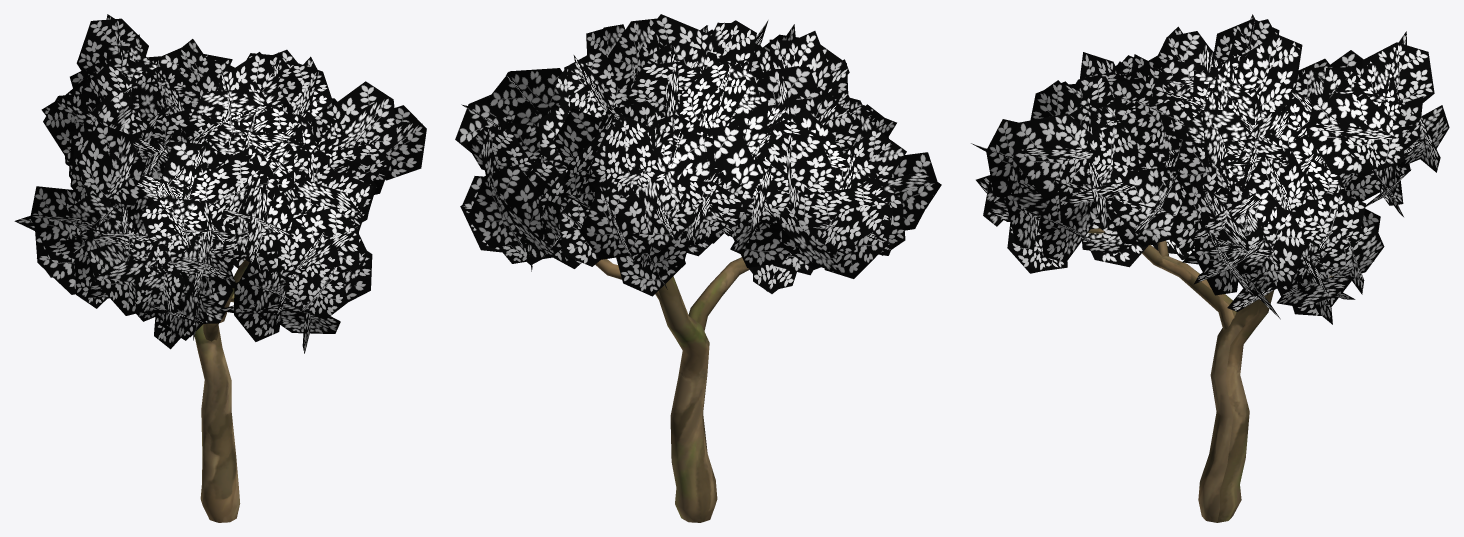
Rendered from P_OakTree4_Snow.obj.
The picture shows the model from 3 angles, left to right: view 1: azimuth 30°, elevation 25°; view 2: azimuth 150°, elevation 25°; view 3: azimuth 270°, elevation 25°; orthographic projection. The views are drawn at different scales.
Bounding box in the file's own units: 13.31 × 14.63 × 13.15.
